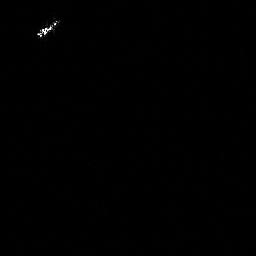ship: (37, 20, 57, 37)
